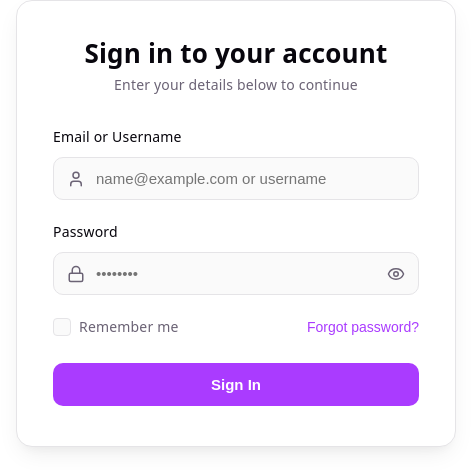
Test case: LoginForm Component › submits successfully with valid credentials and invokes onSuccess
Type "user@example.com" into the field labelled "Email or Username".
click(236, 178); type("user@example.com")  # box [53,157,419,200]
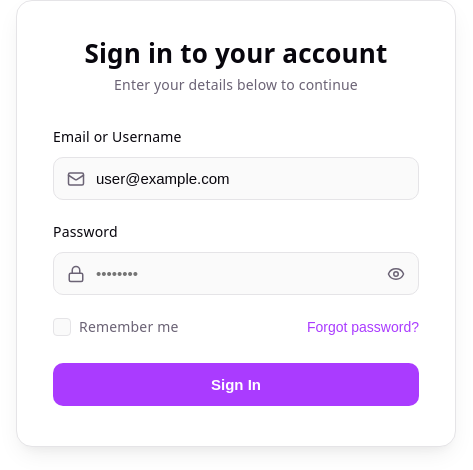
Type "password123" into the password field labelled "Password".
click(236, 274); type("password123")  # box [53,252,419,295]
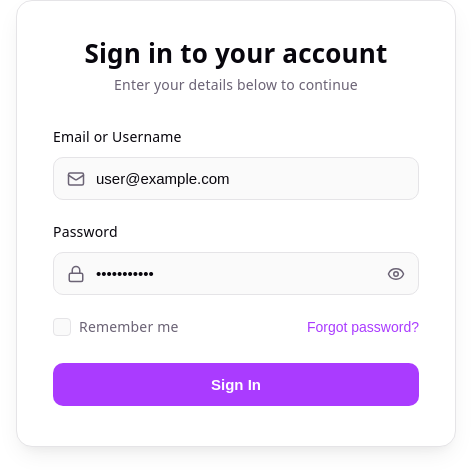
Click the checkbox labelled "Remember me".
click(116, 327)  # box [53,315,179,339]
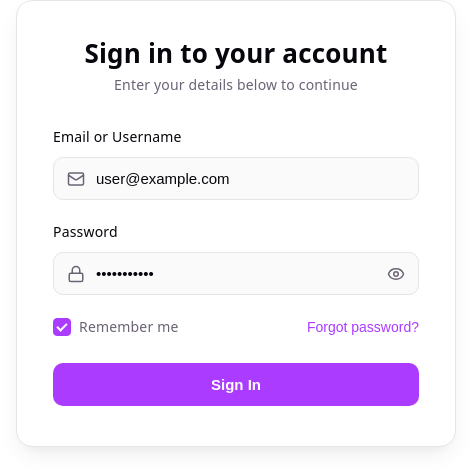
Click the button "Sign In".
click(236, 384)  # box [53,363,419,406]
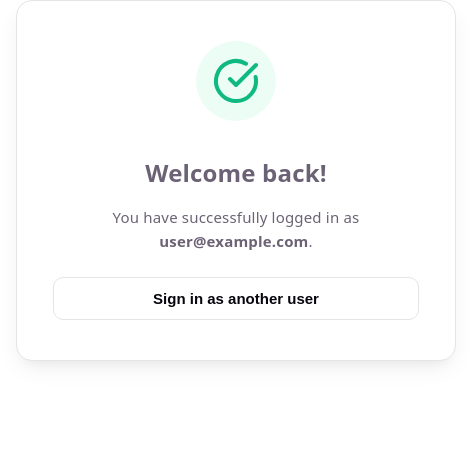
Now the heading "Welcome back!" is shown, box [145,156,327,189]
